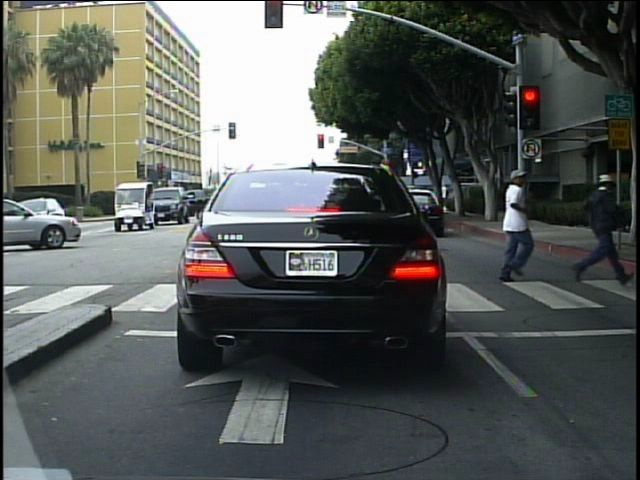person: (570, 168, 626, 290), (485, 166, 536, 286), (438, 179, 453, 212)
